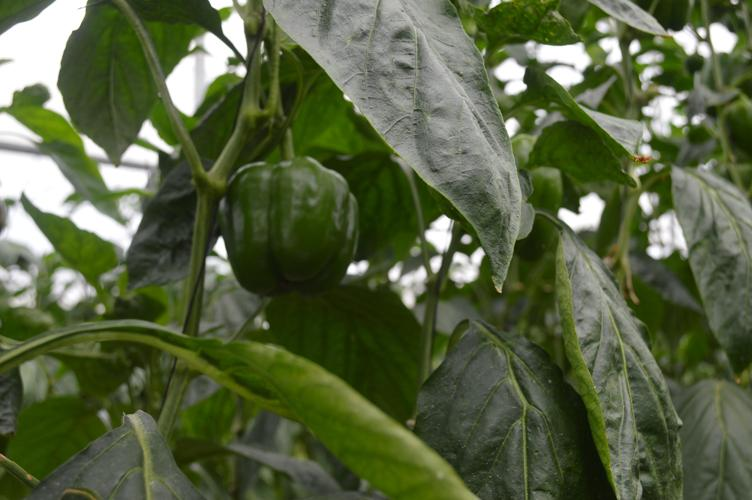BellPepper: (216, 156, 363, 298)
